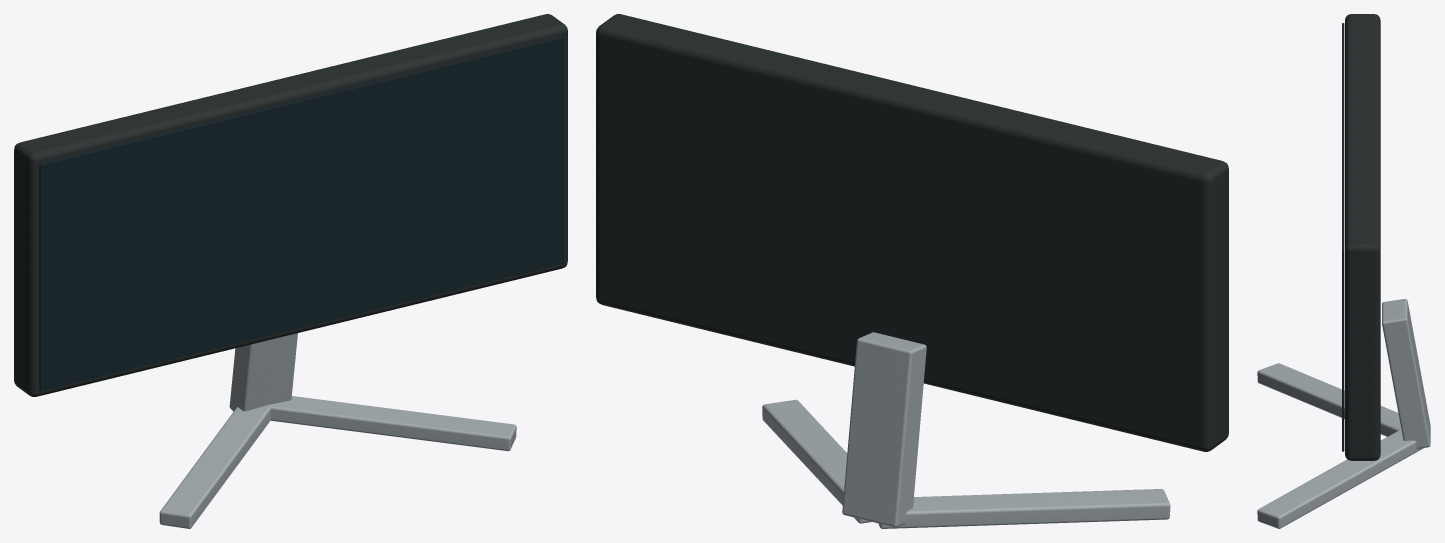
File: monitor-pbr.glb
3 views of the same model, side by side, from view 1: azimuth 30°, elevation 25°; view 2: azimuth 150°, elevation 25°; view 3: azimuth 270°, elevation 25° (orthographic). The views are drawn at different scales.
Parts seen in each view (by area): view 1: Display glass, Display enclosure, Split display foot.001, Split display foot, Display neck; view 2: Display enclosure, Display neck, Split display foot, Split display foot.001; view 3: Display enclosure, Split display foot.001, Display neck, Split display foot, Display glass.
Part boxes in pixels (x1=…): Display glass: x1=39, y1=36, x2=564, y2=390; Display enclosure: x1=14, y1=14, x2=567, y2=396; Split display foot.001: x1=265, y1=396, x2=516, y2=450; Split display foot: x1=159, y1=404, x2=271, y2=528; Display neck: x1=229, y1=333, x2=297, y2=411; Display enclosure: x1=596, y1=14, x2=1228, y2=451; Display neck: x1=842, y1=332, x2=926, y2=527; Split display foot: x1=878, y1=489, x2=1170, y2=528; Split display foot.001: x1=762, y1=399, x2=871, y2=523; Display enclosure: x1=1345, y1=14, x2=1380, y2=460; Split display foot.001: x1=1257, y1=429, x2=1423, y2=528; Display neck: x1=1382, y1=299, x2=1430, y2=448; Split display foot: x1=1257, y1=363, x2=1401, y2=436; Display glass: x1=1342, y1=23, x2=1344, y2=451.
Bounding box in the file's own units: 0.7 × 0.4518 × 0.2191.
3 materials, 3 textured.
